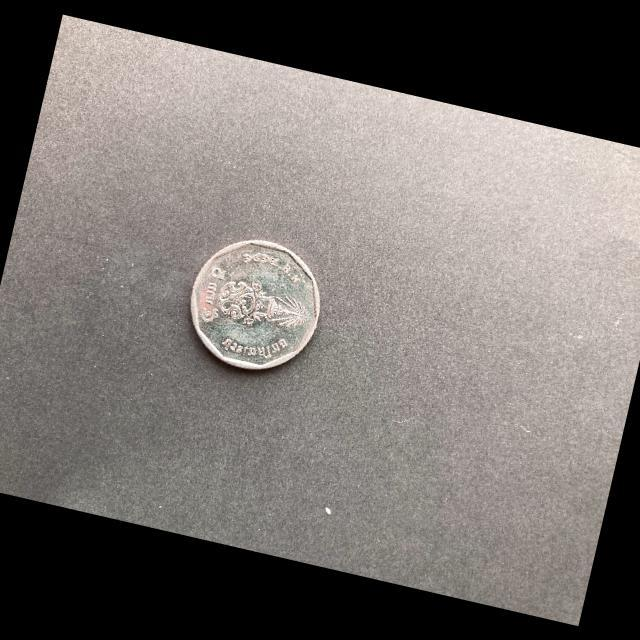5 Bath: (189, 238, 325, 376)
